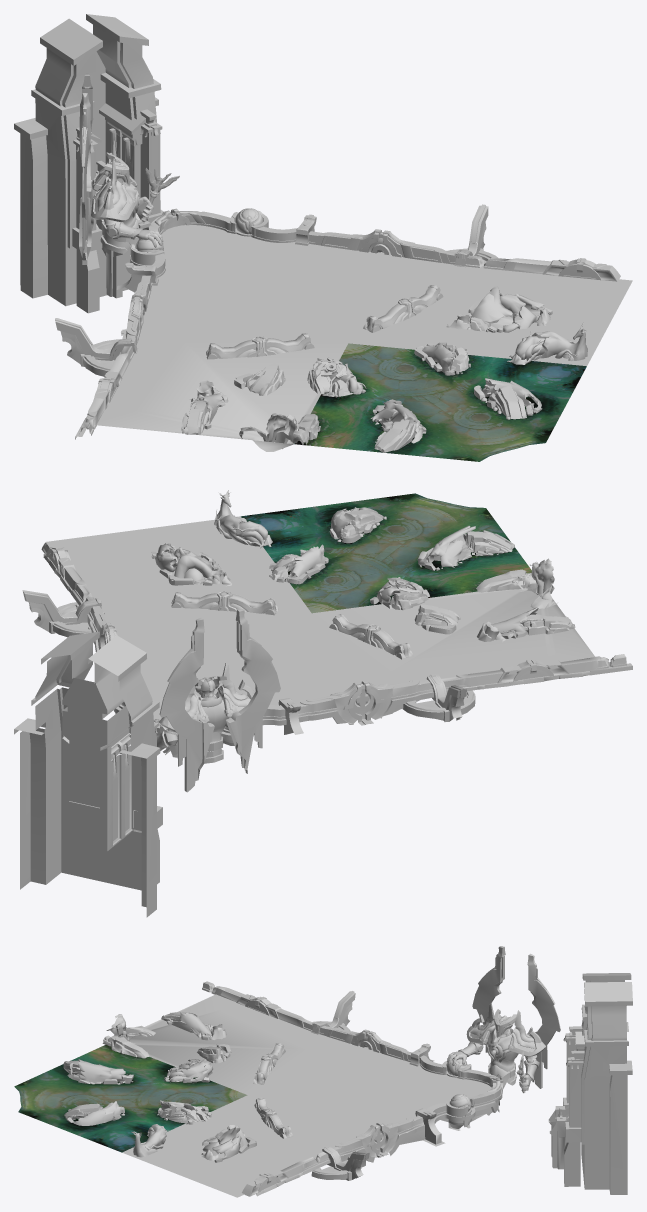
Rendered from Map.fbx.
3 views of the same model, one above another, from view 1: azimuth 30°, elevation 25°; view 2: azimuth 150°, elevation 25°; view 3: azimuth 270°, elevation 25° (orthographic). The views are drawn at different scales.
Parts seen in each view (by area): view 1: ML_049_S3_dibiaobake_16; view 2: ML_049_S3_dibiaobake_16; view 3: ML_049_S3_dibiaobake_16.
Part boxes in pixels (bbox=[...]): ML_049_S3_dibiaobake_16: bbox=[14, 14, 632, 461]; ML_049_S3_dibiaobake_16: bbox=[14, 490, 632, 917]; ML_049_S3_dibiaobake_16: bbox=[14, 946, 632, 1197].
Bounding box in the file's own units: 4411 × 1887 × 5403.
